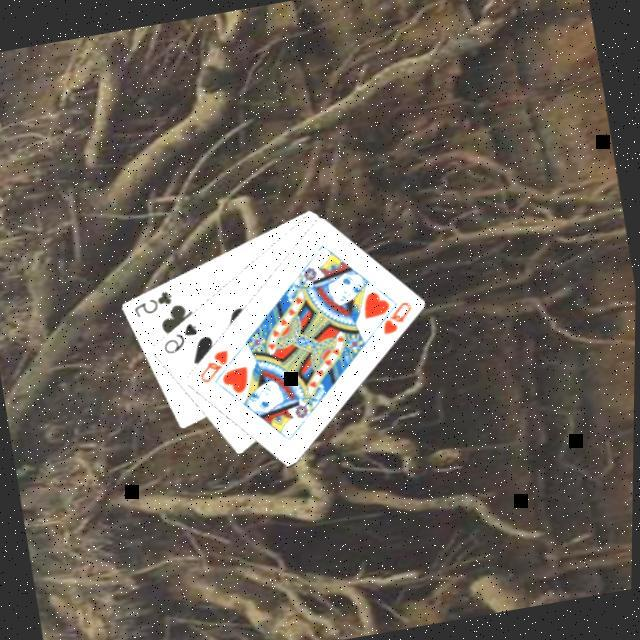5C: (125, 284, 175, 320)
9S: (154, 317, 201, 357)
QH: (363, 295, 418, 340), (191, 344, 235, 386)
